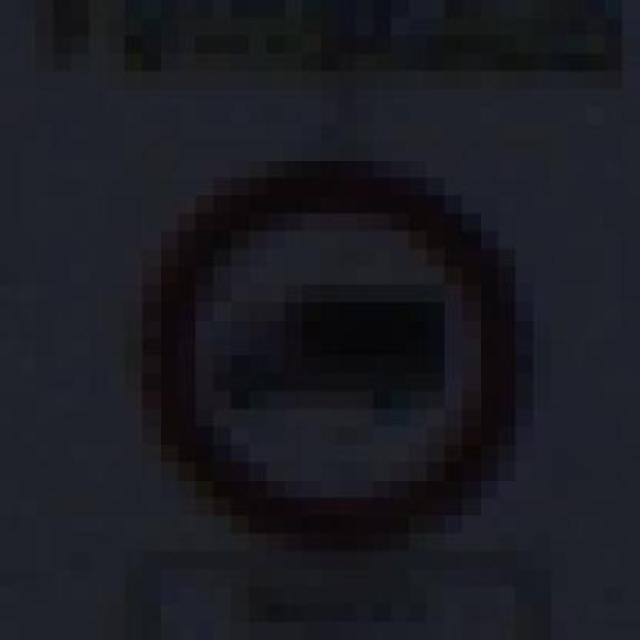Truck traffic is prohibited: (91, 124, 572, 568)
